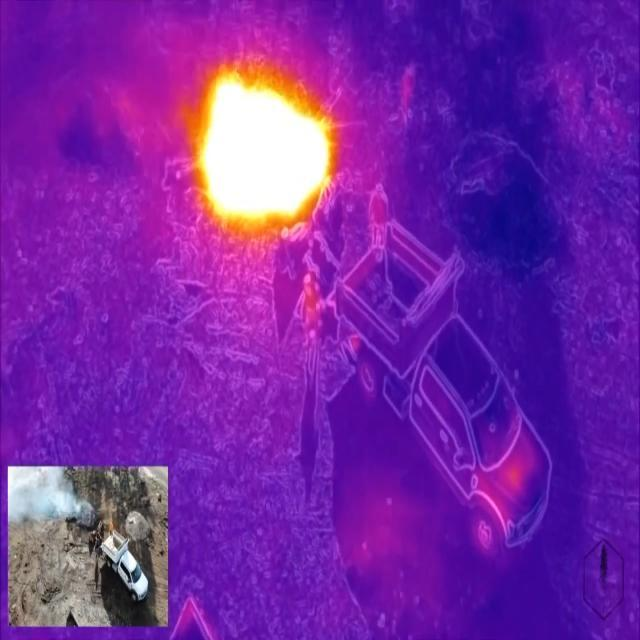fire: (193, 56, 336, 230)
